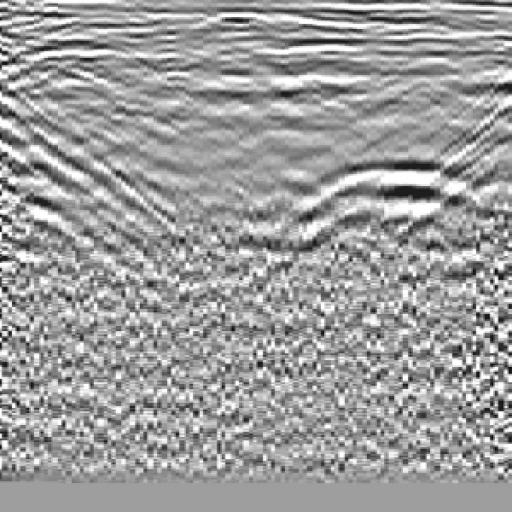metalic: (283, 124, 501, 261)
nonmetalic: (1, 48, 133, 276)
